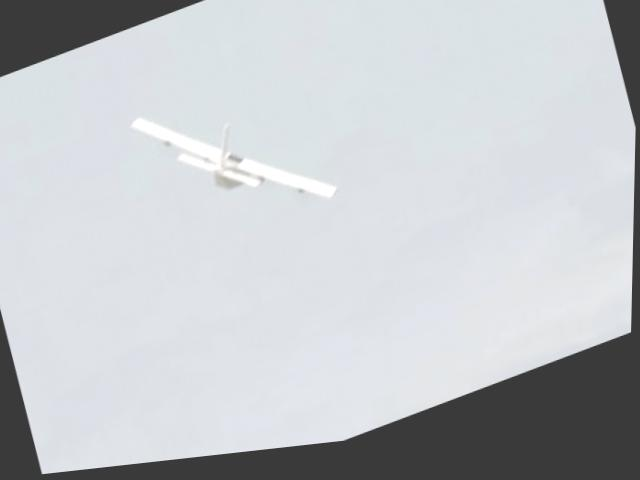uav: (126, 57, 342, 265)
